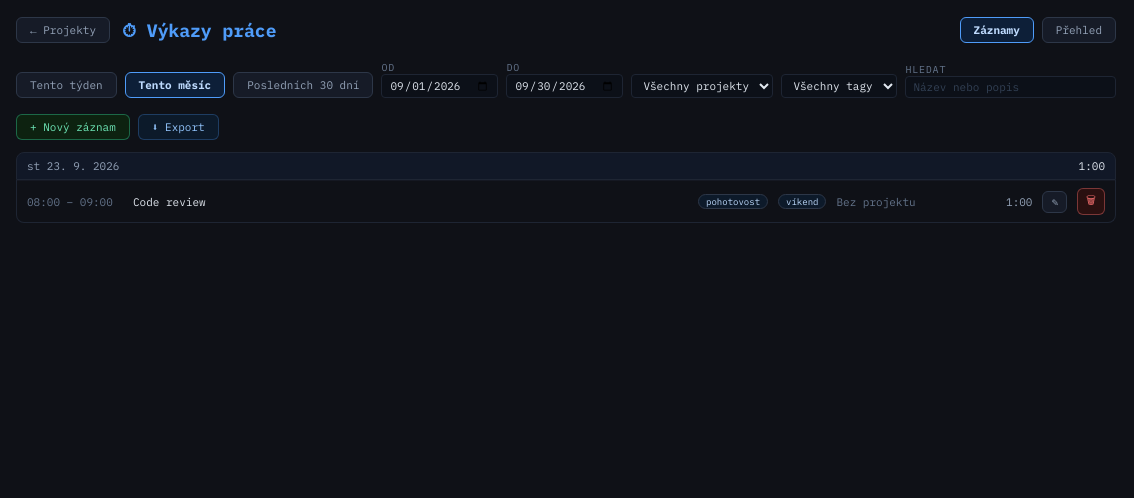
it: přehled › rozpad podle tagů přiznává, že se díly překrývají
The image size is (1134, 498).
Click the button "Přehled". click: coordinates (1079, 30)
box: x1=1042 y1=17 x2=1116 y2=43
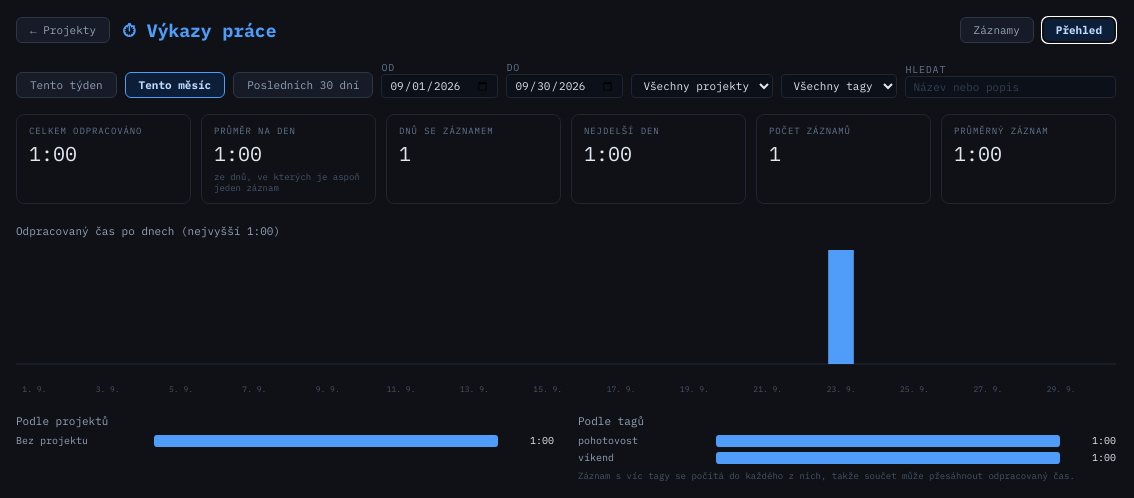
Expected: the text "součet může přesáhnout odpracovaný čas" is shown, x1=578 y1=470 x2=1075 y2=481
